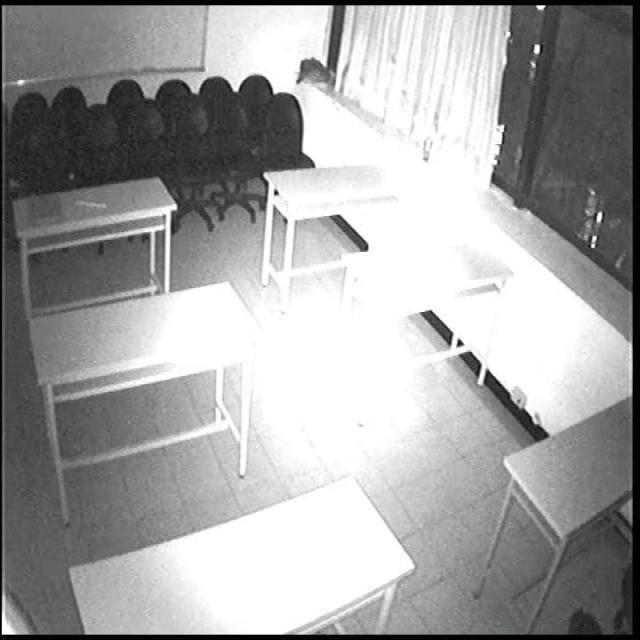abandoned-object: (293, 51, 348, 100)
